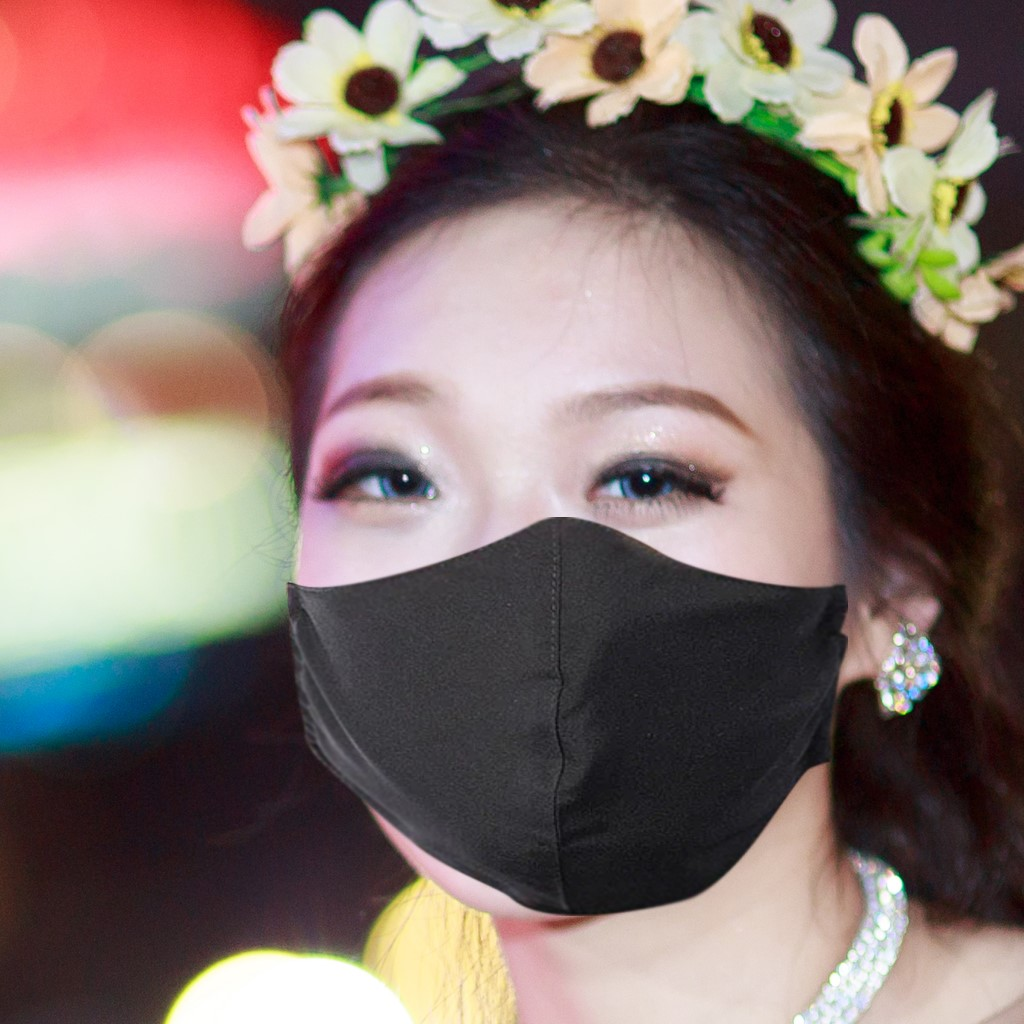con_mascara: (275, 167, 865, 923)
